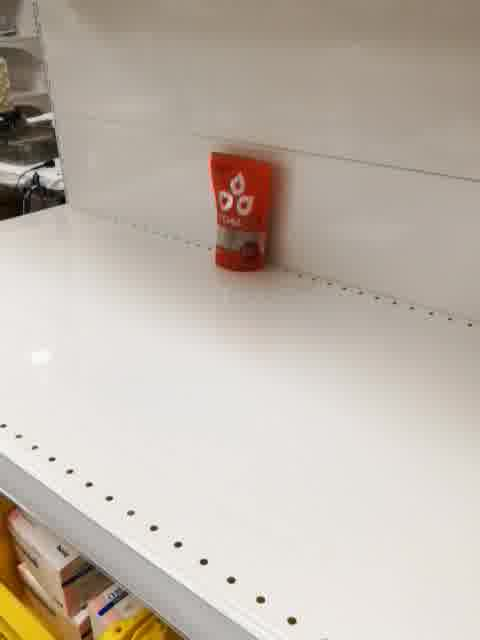whitechia: (207, 147, 281, 273)
